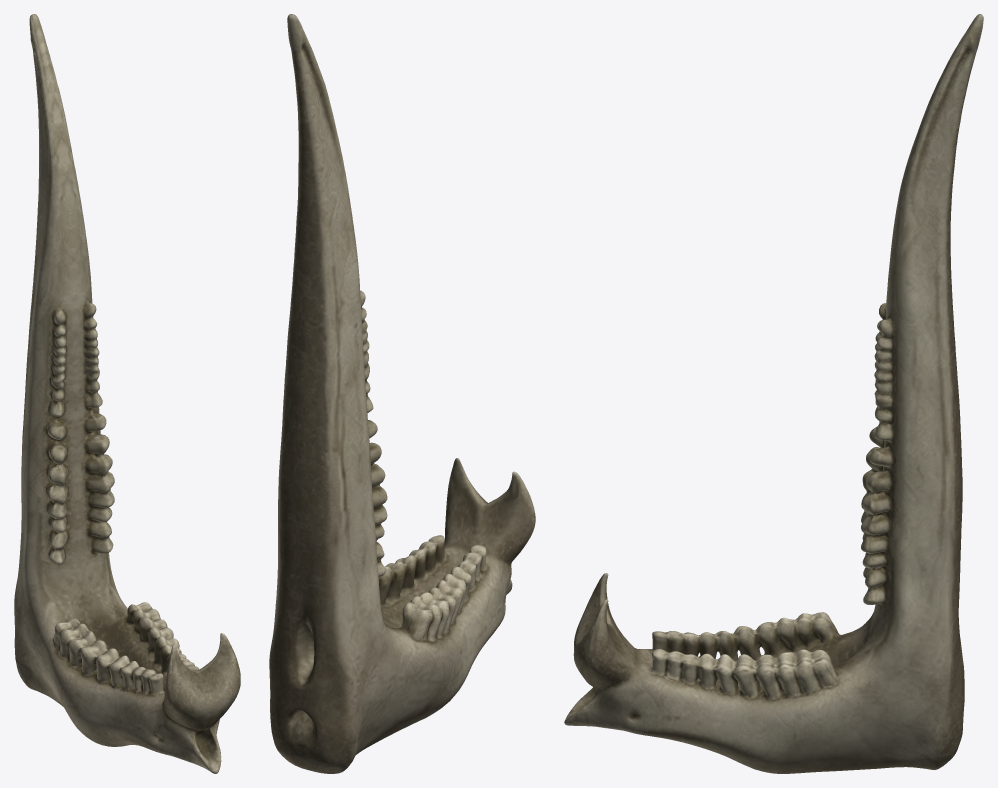
3 renders of one model, left to right at view 1: azimuth 30°, elevation 25°; view 2: azimuth 150°, elevation 25°; view 3: azimuth 270°, elevation 25°, orthographic. The views are drawn at different scales.
Parts seen in each view (by area): view 1: mesh_node; view 2: mesh_node; view 3: mesh_node.
Part boxes in pixels (x1,y1,x2,y2): mesh_node: (14,14,240,773); mesh_node: (269,14,535,773); mesh_node: (564,14,983,773).
Bounding box in the file's own units: 0.3272 × 1.9 × 0.9602.
Materials: 1 (1 with a texture image).
